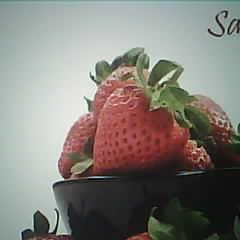straw-ripe: (93, 84, 188, 175)
